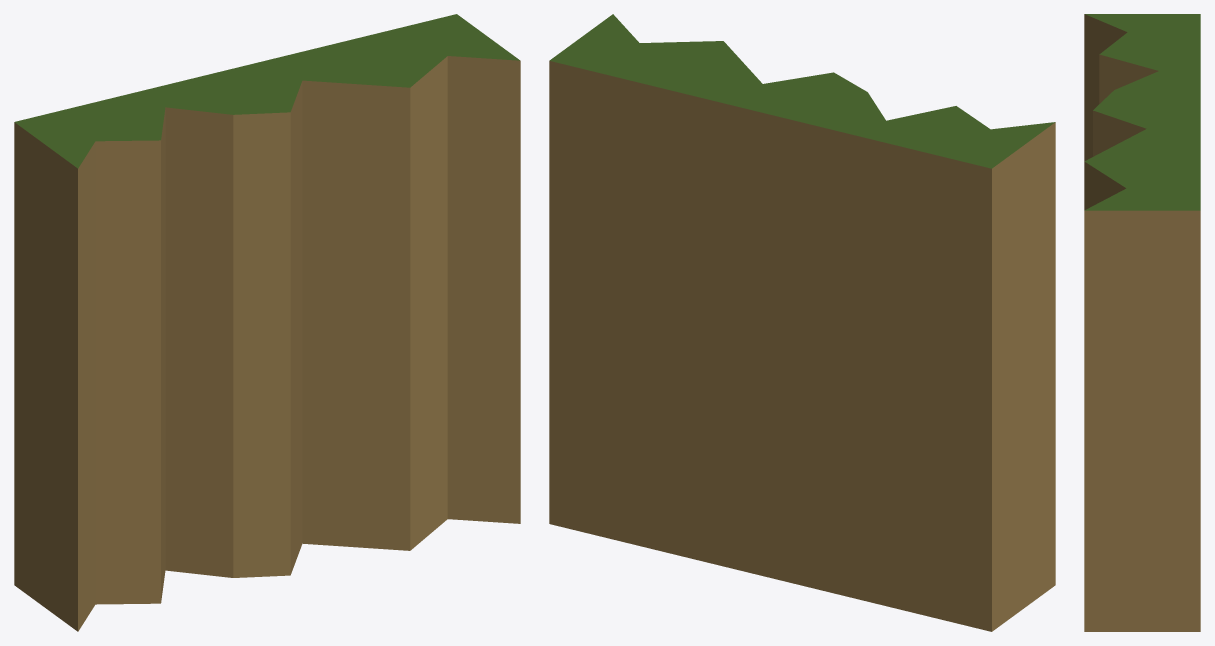
Rendered from Terrain_Tile_Grass_Dirt_Cliff_Face_Straight_01.fbx.
3 renders of one model, left to right at view 1: azimuth 30°, elevation 25°; view 2: azimuth 150°, elevation 25°; view 3: azimuth 270°, elevation 25°, orthographic. The views are drawn at different scales.
Visible parts, largest first — view 1: Terrain_Tile_Grass_Dirt_Cliff_Face_Straight_01; view 2: Terrain_Tile_Grass_Dirt_Cliff_Face_Straight_01; view 3: Terrain_Tile_Grass_Dirt_Cliff_Face_Straight_01.
Part boxes in pixels (left/top/right/bottom): Terrain_Tile_Grass_Dirt_Cliff_Face_Straight_01: left=14, top=14, right=520, bottom=631; Terrain_Tile_Grass_Dirt_Cliff_Face_Straight_01: left=549, top=14, right=1055, bottom=631; Terrain_Tile_Grass_Dirt_Cliff_Face_Straight_01: left=1084, top=14, right=1200, bottom=631.
Bounding box in the file's own units: 126 × 126 × 31.5.
